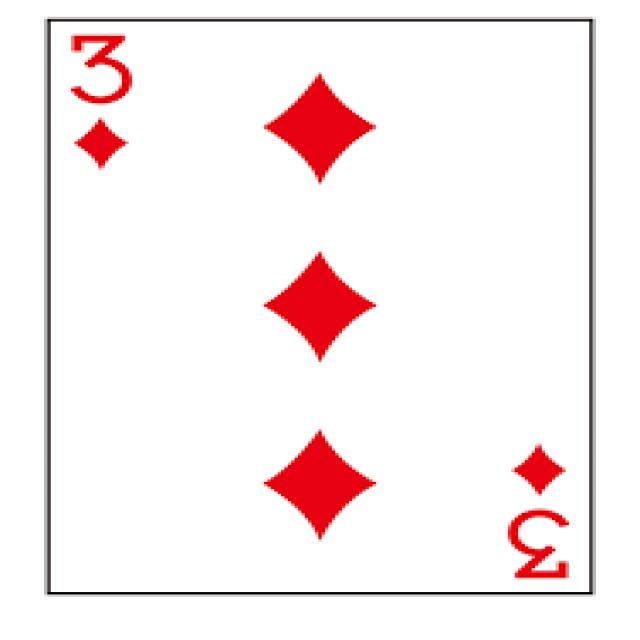R3: (1, 3, 635, 637)
